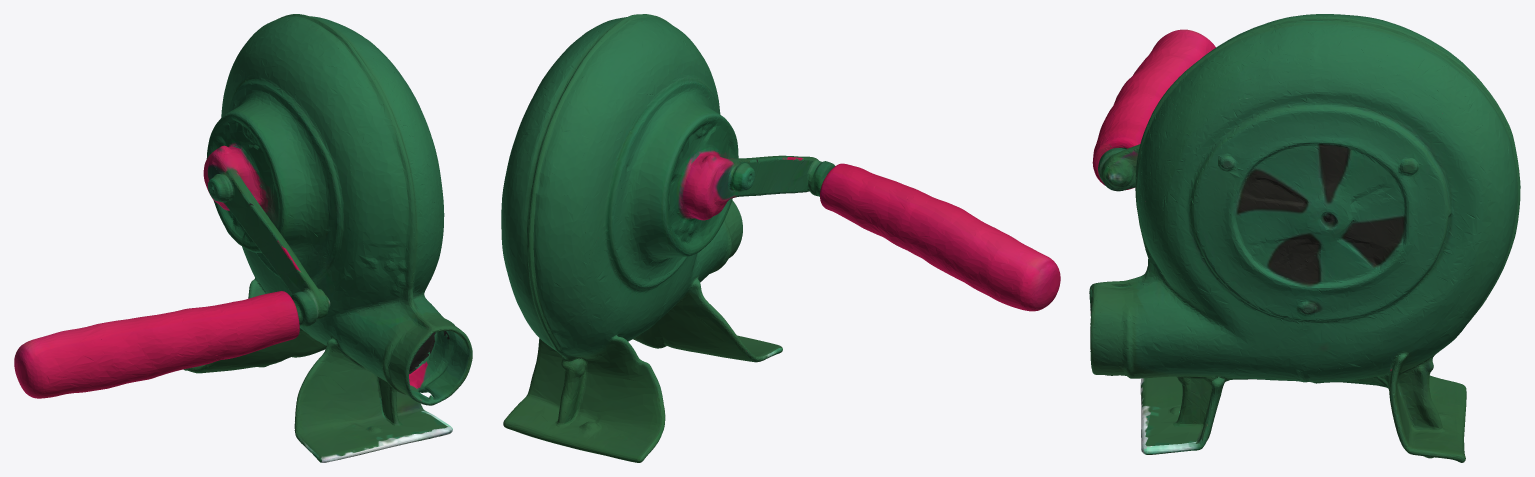
3 renders of one model, left to right at view 1: azimuth 30°, elevation 25°; view 2: azimuth 150°, elevation 25°; view 3: azimuth 270°, elevation 25°, orthographic. The views are drawn at different scales.
Visible parts, largest first — view 1: world; view 2: world; view 3: world.
Part boxes in pixels (<box>): world: <box>14,14,472,462</box>; world: <box>501,14,1060,462</box>; world: <box>1089,14,1520,462</box>.
Size of the model in its own units: 1.99 by 1.62 by 1.49.
Materials: 1 (1 with a texture image).
